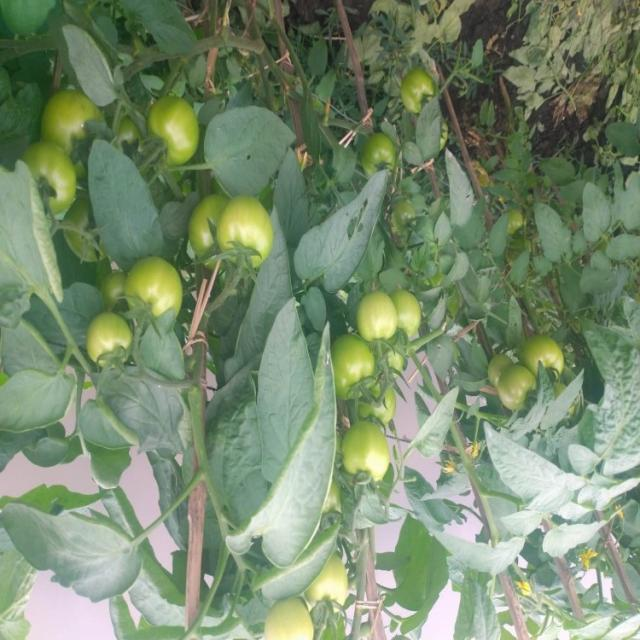tomato: (317, 334, 416, 421), (314, 400, 404, 488), (37, 77, 124, 159), (15, 130, 94, 217), (148, 90, 219, 171), (344, 370, 420, 434), (119, 249, 175, 328), (184, 186, 240, 264), (297, 548, 366, 611), (344, 285, 410, 348), (223, 196, 279, 267), (376, 273, 432, 342), (492, 355, 550, 414), (78, 316, 135, 365), (242, 606, 324, 640), (390, 63, 435, 122), (523, 336, 573, 382), (363, 126, 401, 183), (488, 357, 510, 385)
